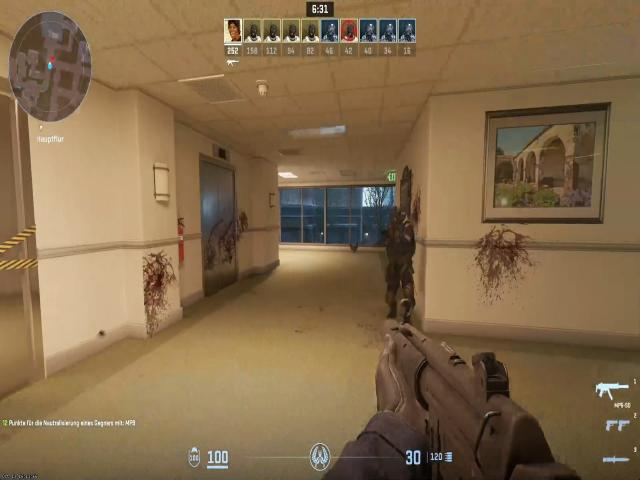CT: (378, 200, 419, 299)
CT-Head: (384, 205, 409, 236)
